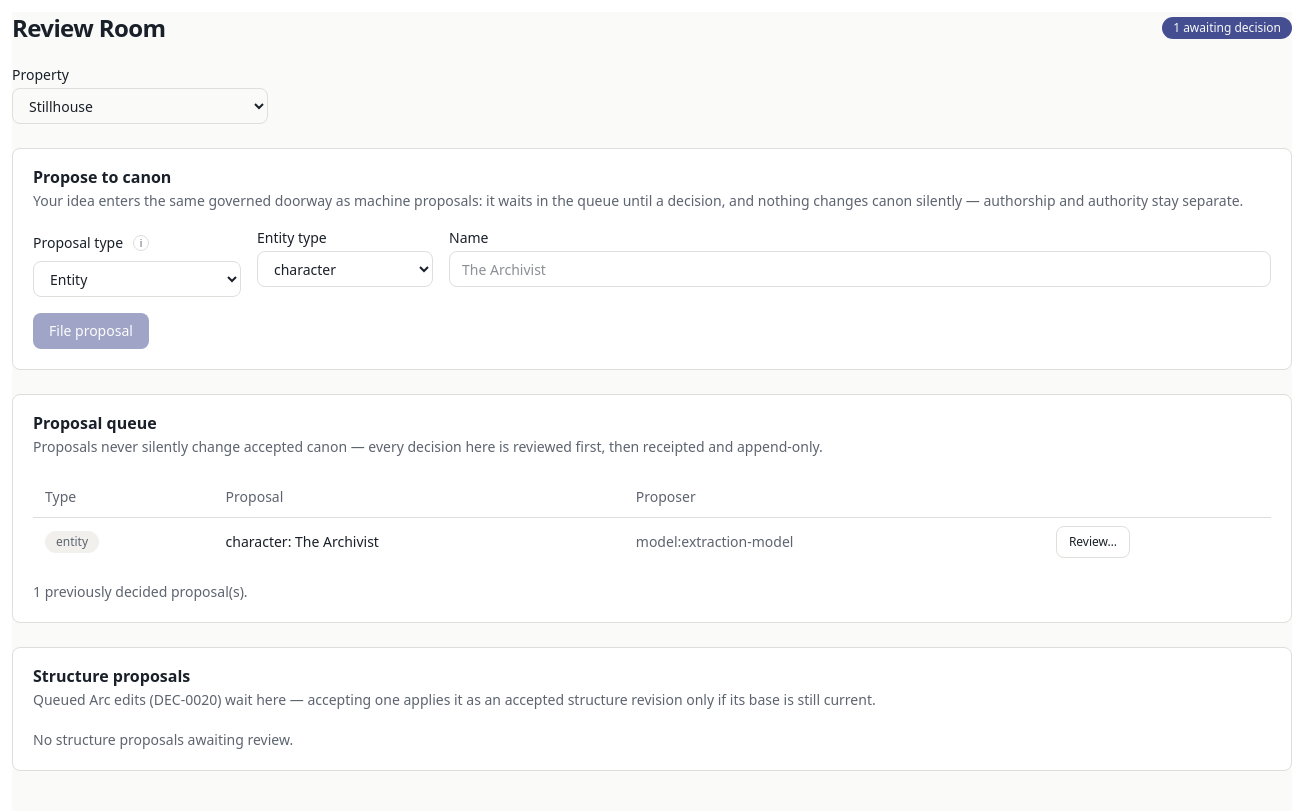
Review Room › switches to timeline-event fields and files with story time
Expected: the text "character: The Archivist" is shown, x1=214 y1=517 x2=624 y2=566
Select "Timeline event" in the dropdown labelled "Proposal type" at (137, 279), box x1=33 y1=261 x2=241 y2=297
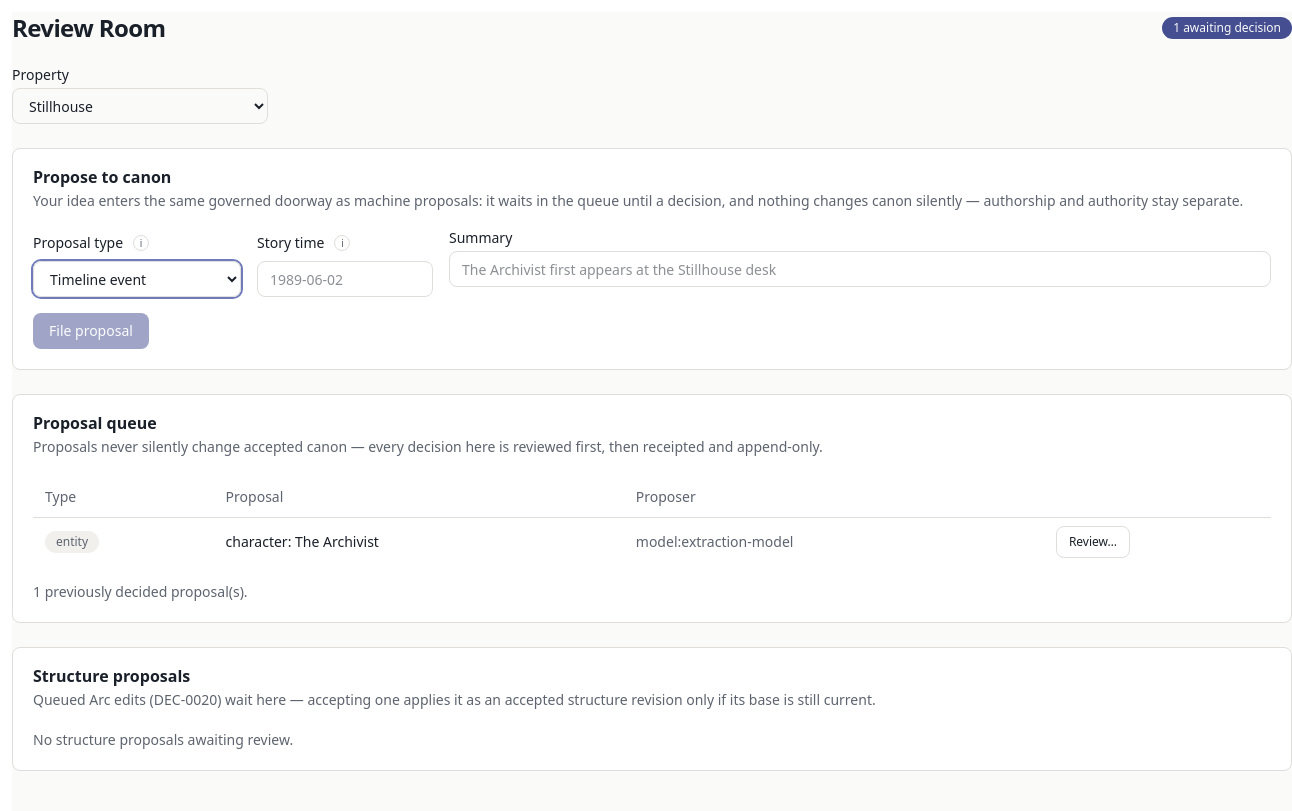
Type "1989-06-03" into the field labelled "Story time" at (345, 279), box x1=257 y1=261 x2=433 y2=297
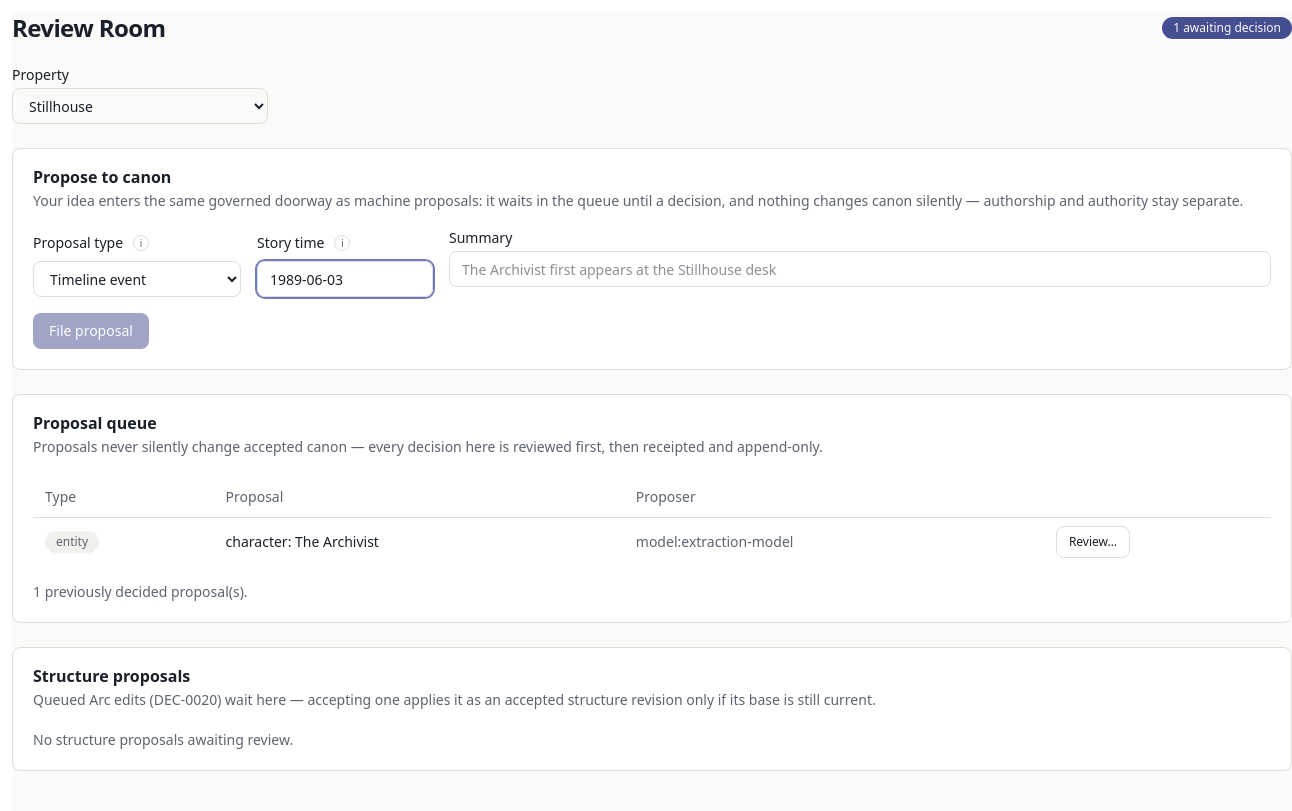
Type "The cellar door is found unlocked" into the field labelled "Summary" at (860, 269), box x1=449 y1=251 x2=1271 y2=287
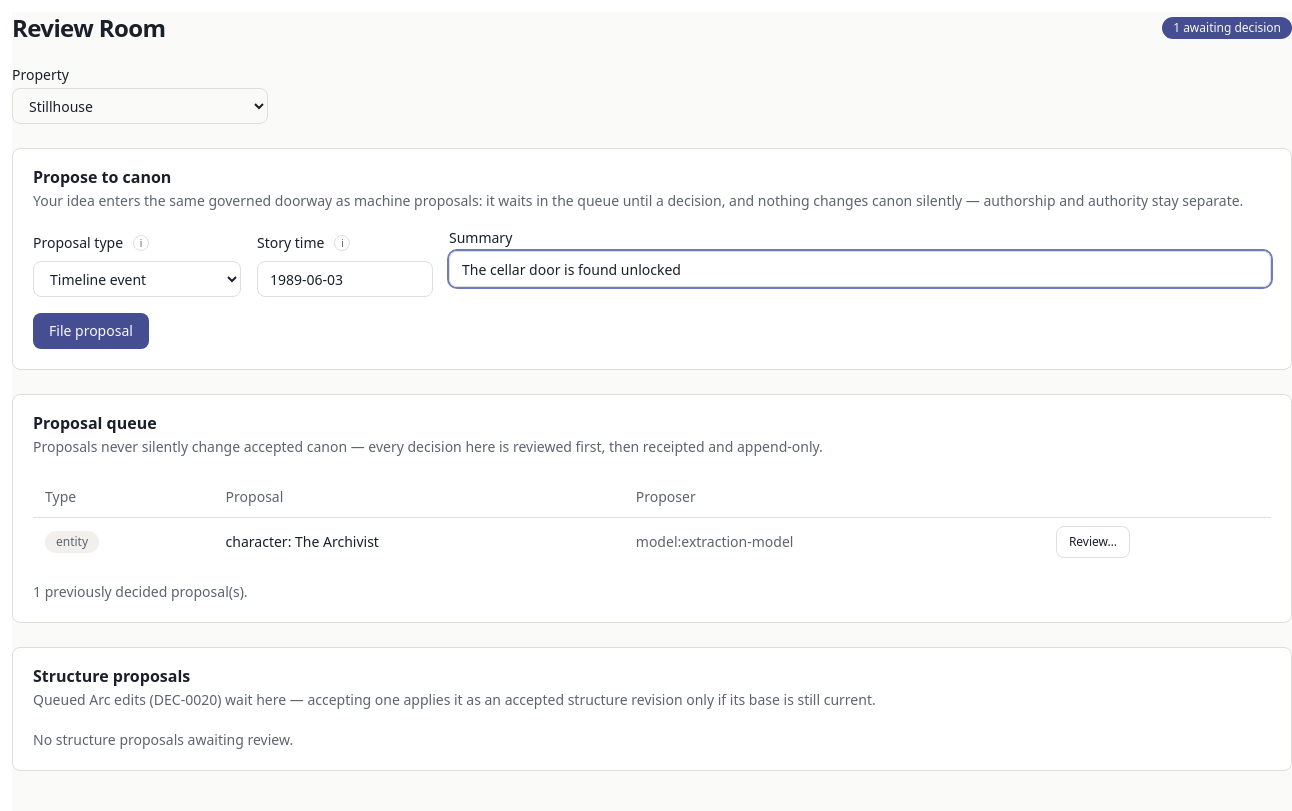
Click the button "File proposal" at (91, 331), box x1=33 y1=313 x2=149 y2=349
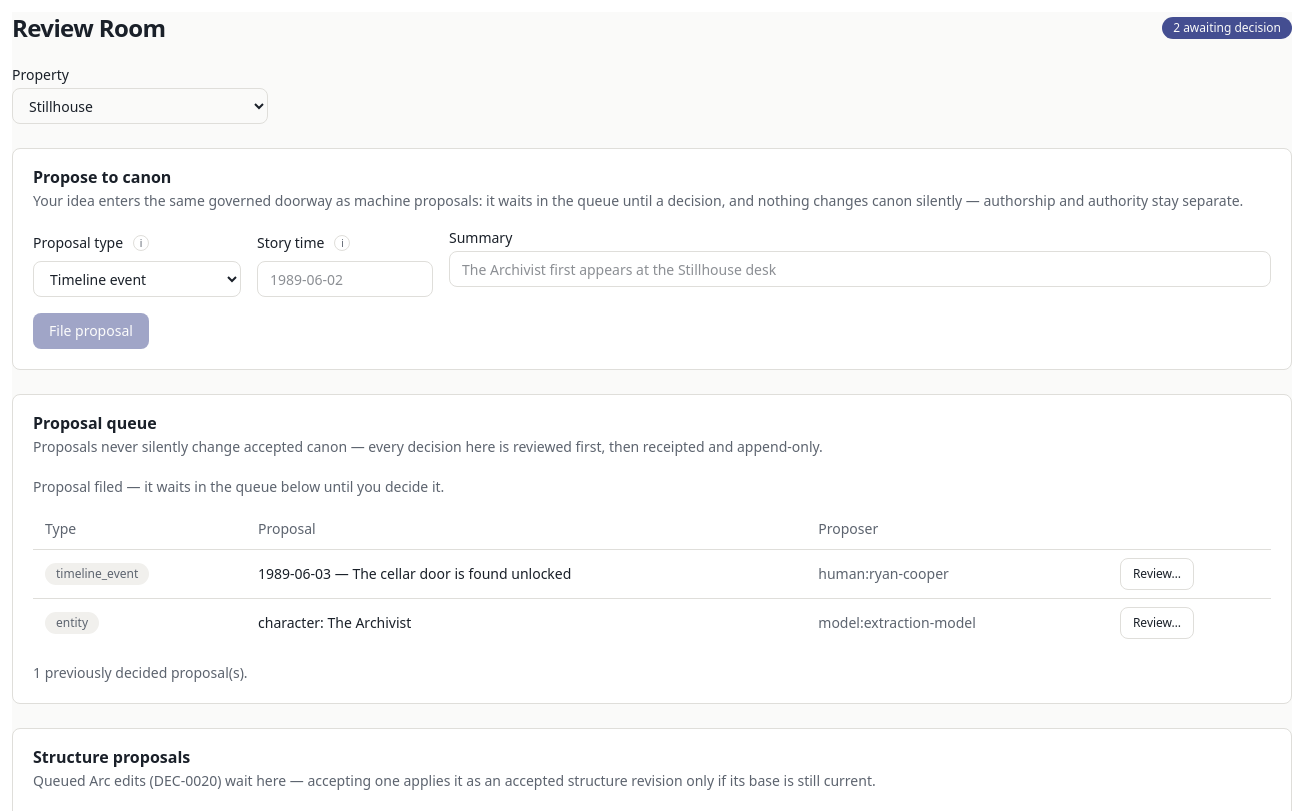
Expected: the text "timeline_event" is shown, x1=45 y1=562 x2=149 y2=584
